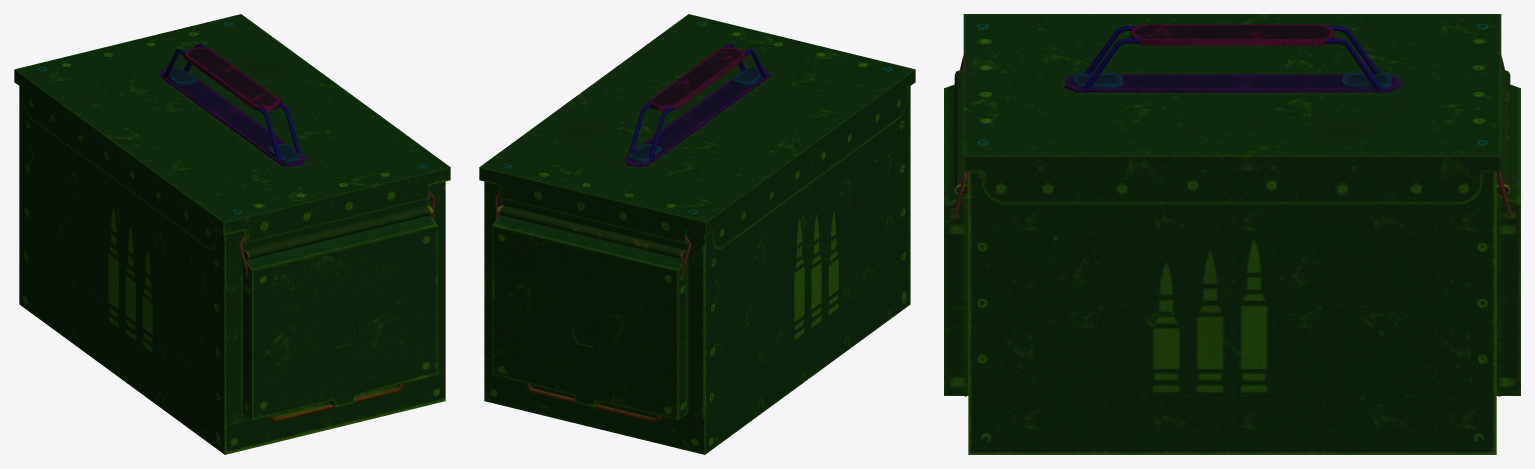
The model's file is Ammo_crate.glb.
3 renders of one model, left to right at view 1: azimuth 30°, elevation 25°; view 2: azimuth 150°, elevation 25°; view 3: azimuth 270°, elevation 25°, orthographic. The views are drawn at different scales.
Parts seen in each view (by area): view 1: Cube; view 2: Cube; view 3: Cube.
Boxes of the visible parts, left/top/right/bottom form: Cube: left=14, top=14, right=450, bottom=454; Cube: left=479, top=14, right=915, bottom=454; Cube: left=944, top=14, right=1520, bottom=454.
Size of the model in its own units: 0.292 by 0.3386 by 0.5005.
1 material, 1 textured.
